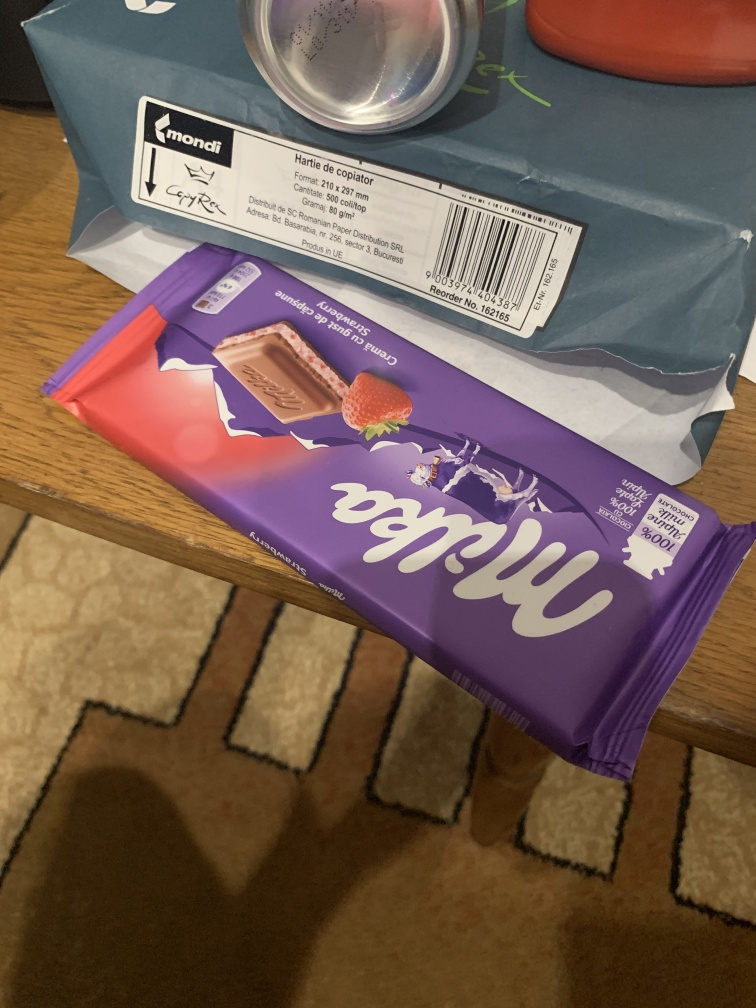milka: (50, 239, 756, 805)
